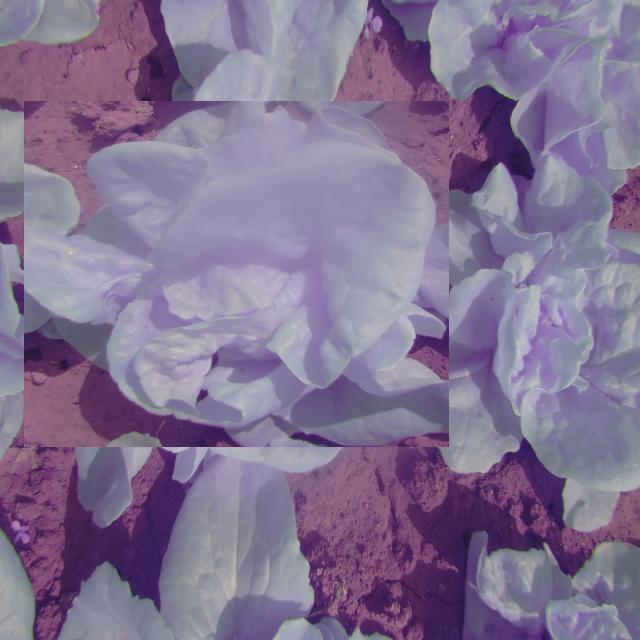vege: (43, 81, 430, 466)
